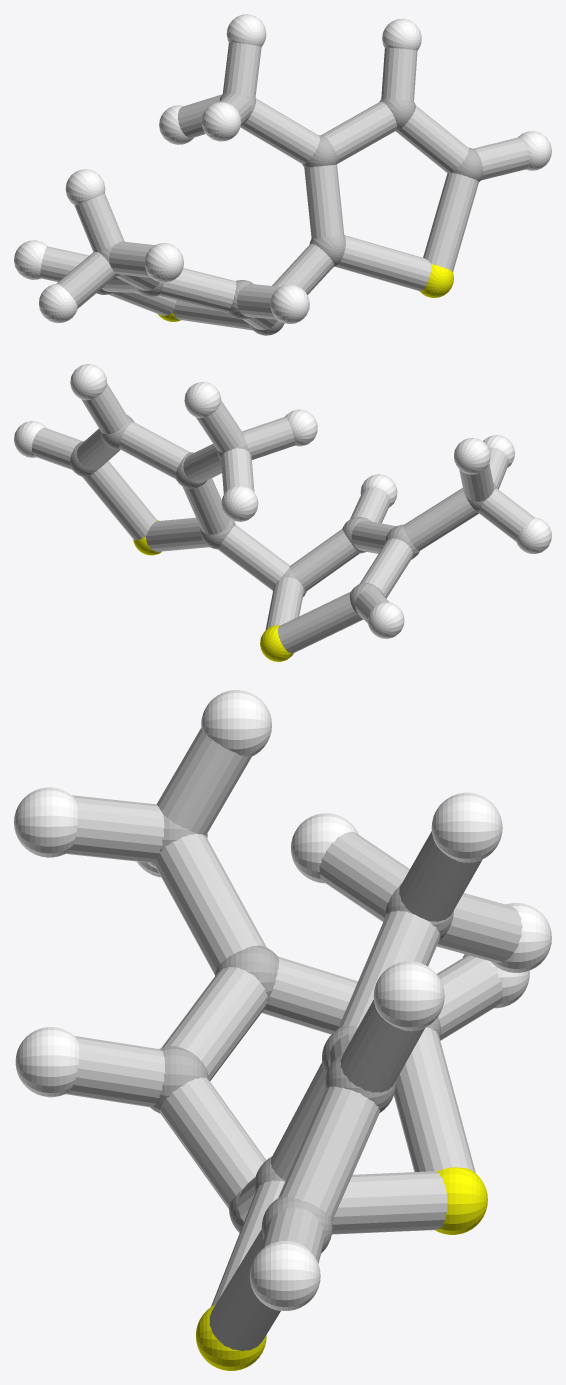
File: Methylthiophene_Phi_60_Theta_90_Methylthiophene.glb
3 views of the same model, one above another, from view 1: azimuth 30°, elevation 25°; view 2: azimuth 150°, elevation 25°; view 3: azimuth 270°, elevation 25° (orthographic). The views are drawn at different scales.
Visible parts, largest first — view 1: grp7965, grp3621, grp1, grp7241; view 2: grp7965, grp3621, grp1, grp7241; view 3: grp7965, grp3621, grp1, grp7241.
Part boxes in pixels (<box>): grp7965: <box>40,42,528,330</box>; grp3621: <box>14,14,551,323</box>; grp1: <box>96,93,483,335</box>; grp7241: <box>157,264,453,321</box>; grp7965: <box>32,383,534,653</box>; grp3621: <box>14,364,551,638</box>; grp1: <box>70,415,496,618</box>; grp7241: <box>133,520,293,661</box>; grp7965: <box>65,728,522,1350</box>; grp3621: <box>14,690,551,1310</box>; grp1: <box>150,815,453,1253</box>; grp7241: <box>196,1167,487,1370</box>.
Size of the model in its own units: 9.43 by 4.7 by 4.55.
